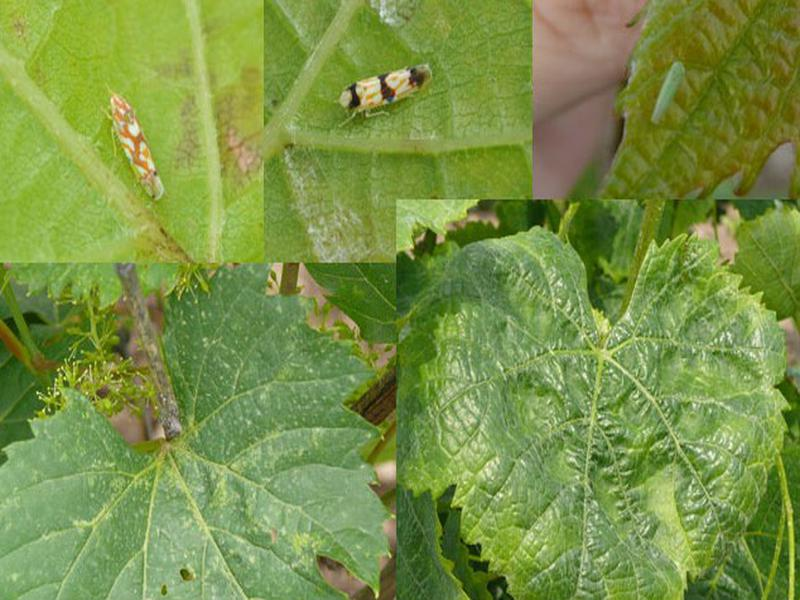Brown_plant_leafhopper: (98, 270, 204, 453), (325, 51, 442, 134), (97, 86, 175, 209)
